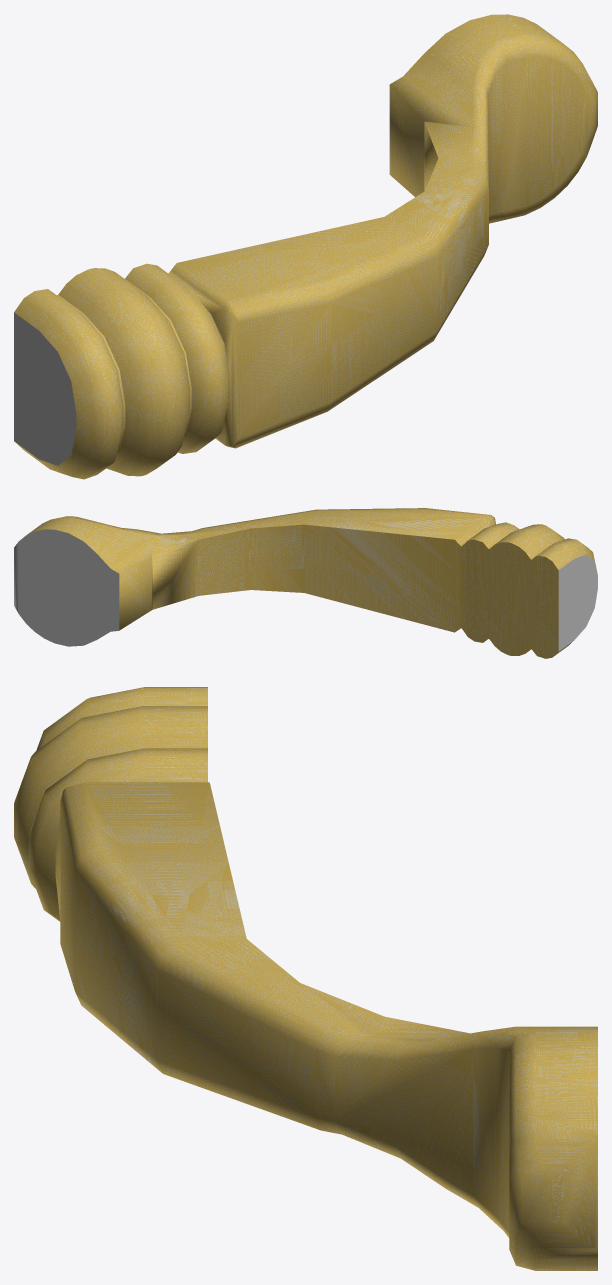
File: original-72.obj
The picture shows the model from 3 angles, top to bottom: view 1: azimuth 30°, elevation 25°; view 2: azimuth 150°, elevation 25°; view 3: azimuth 270°, elevation 25°; orthographic projection. The views are drawn at different scales.
Visible parts, largest first — view 1: mesh40/mesh40-geometry#mesh40-geometry; view 2: mesh40/mesh40-geometry#mesh40-geometry; view 3: mesh40/mesh40-geometry#mesh40-geometry.
Boxes of the visible parts, x1,y1,x2,y2 form: mesh40/mesh40-geometry#mesh40-geometry: (14,14,597,479); mesh40/mesh40-geometry#mesh40-geometry: (14,508,597,658); mesh40/mesh40-geometry#mesh40-geometry: (14,687,597,1270).
Bounding box in the file's own units: 0.092 × 0.0222 × 0.0534.
